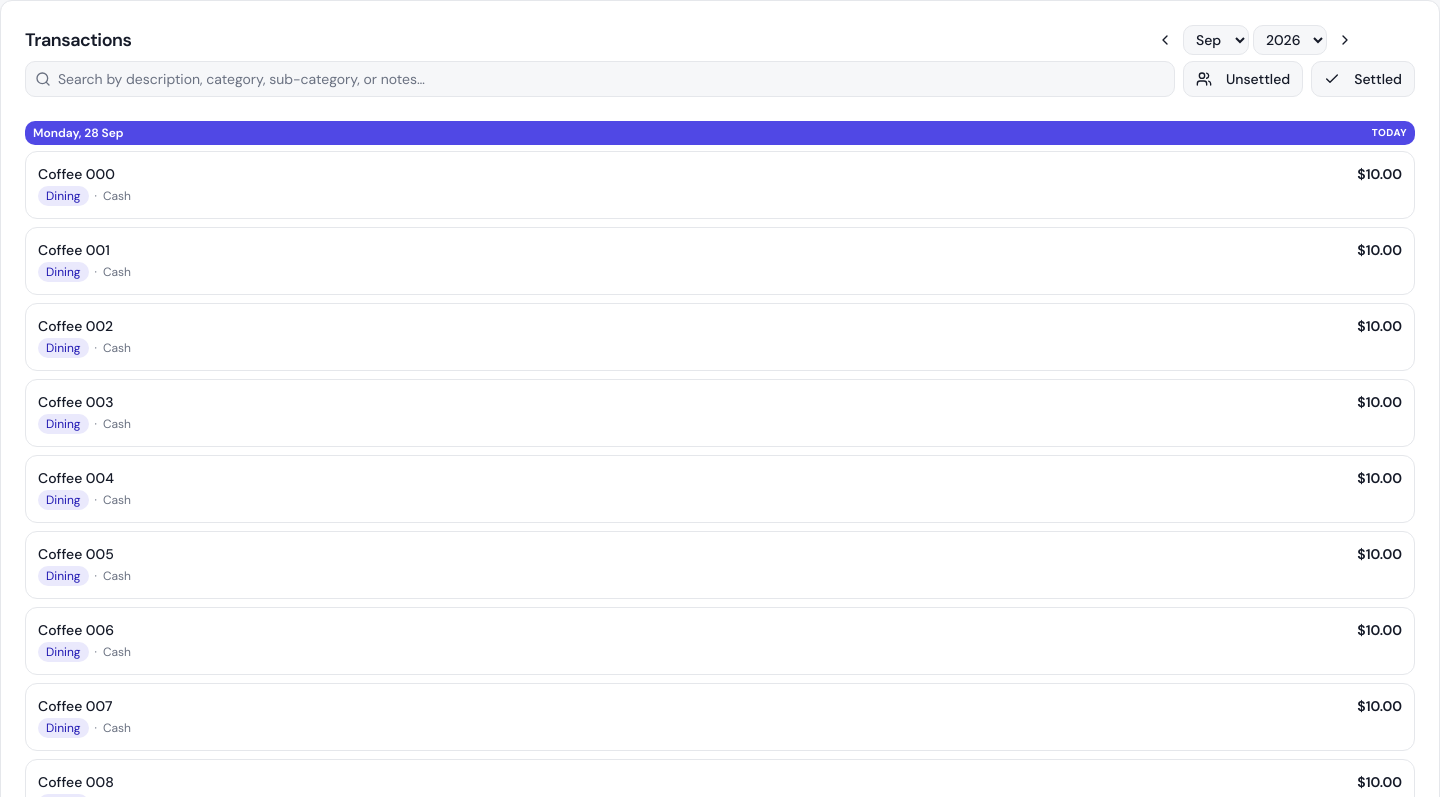
Test: TransactionList search › shows every match when asked
Type "coffee" into the field with placeholder "Search by description, category, sub-category, or notes…" at [600, 79], box [25,61,1175,97]
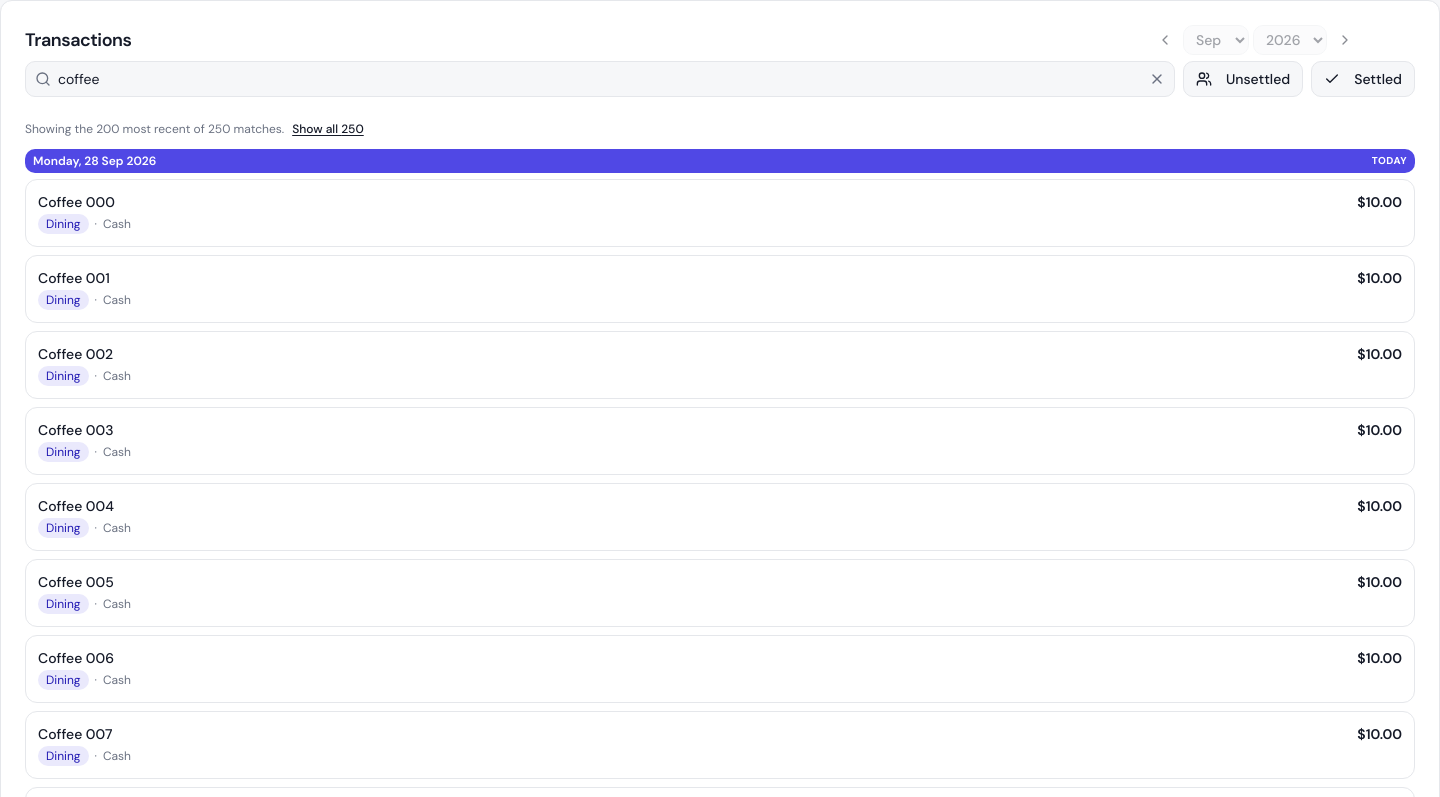
Expected: the text "Coffee 000" is shown 200 times
Click the button "Show all 250" at [328, 129], box [292,121,364,137]
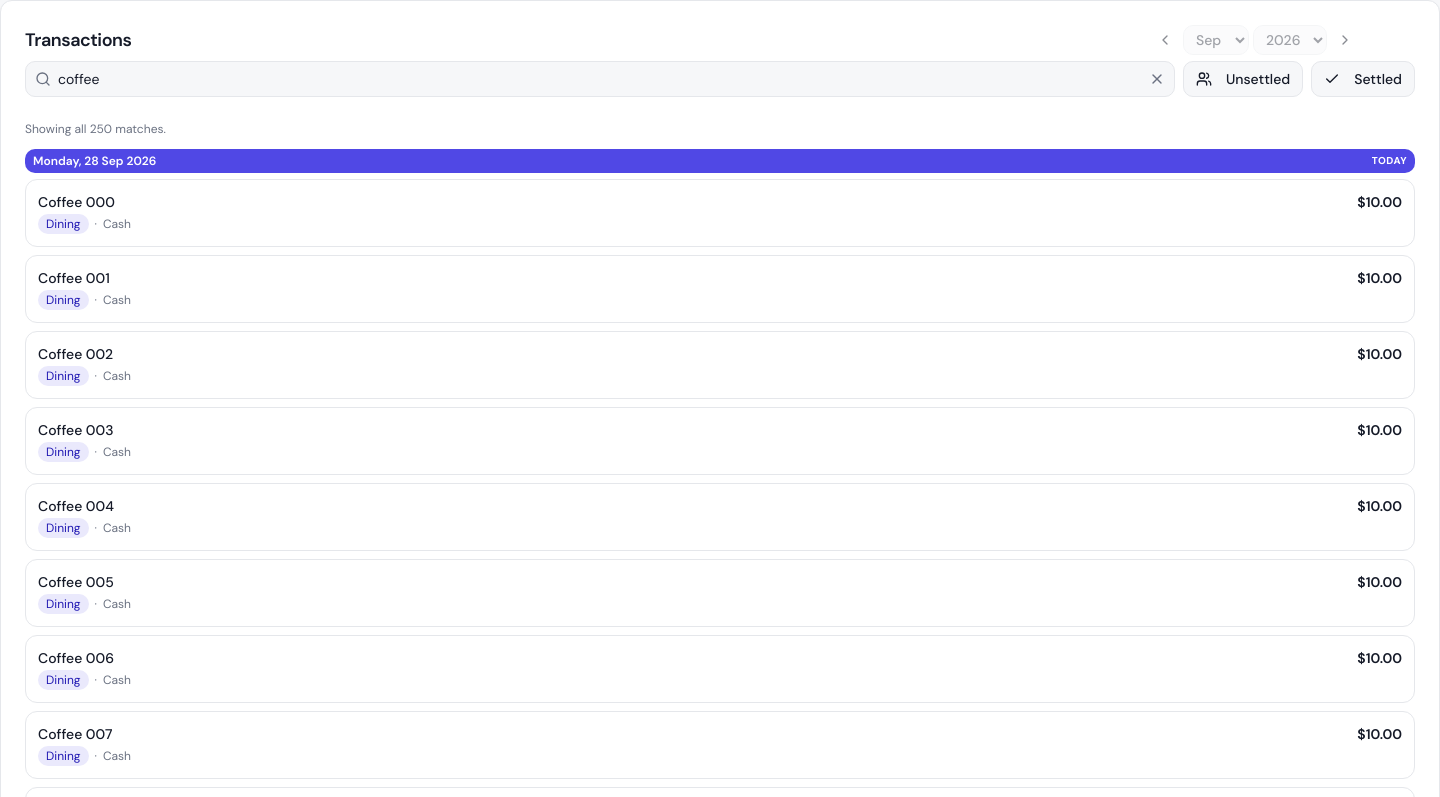
Expected: the text "Showing all 250 matches." is shown, [25,121,166,137]
Expected: the text "Showing the 200 most recent" is gone
